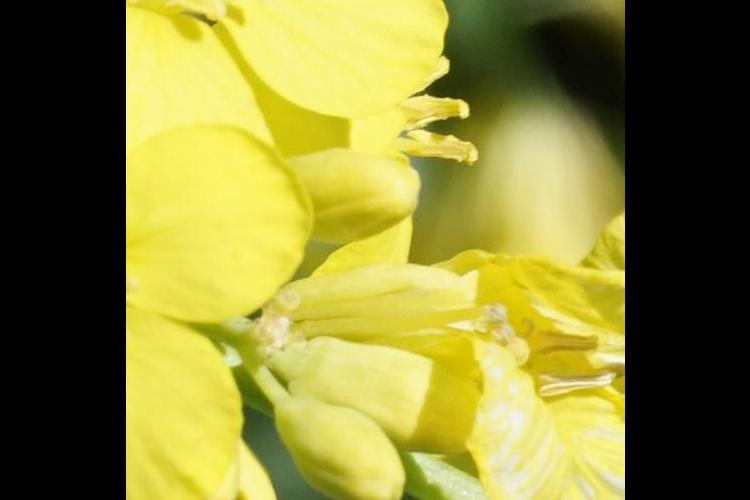bud: (282, 354, 480, 453), (300, 142, 424, 246), (280, 409, 409, 500), (169, 461, 288, 500)
yellow: (129, 1, 459, 240), (127, 124, 322, 500), (458, 238, 624, 500)
